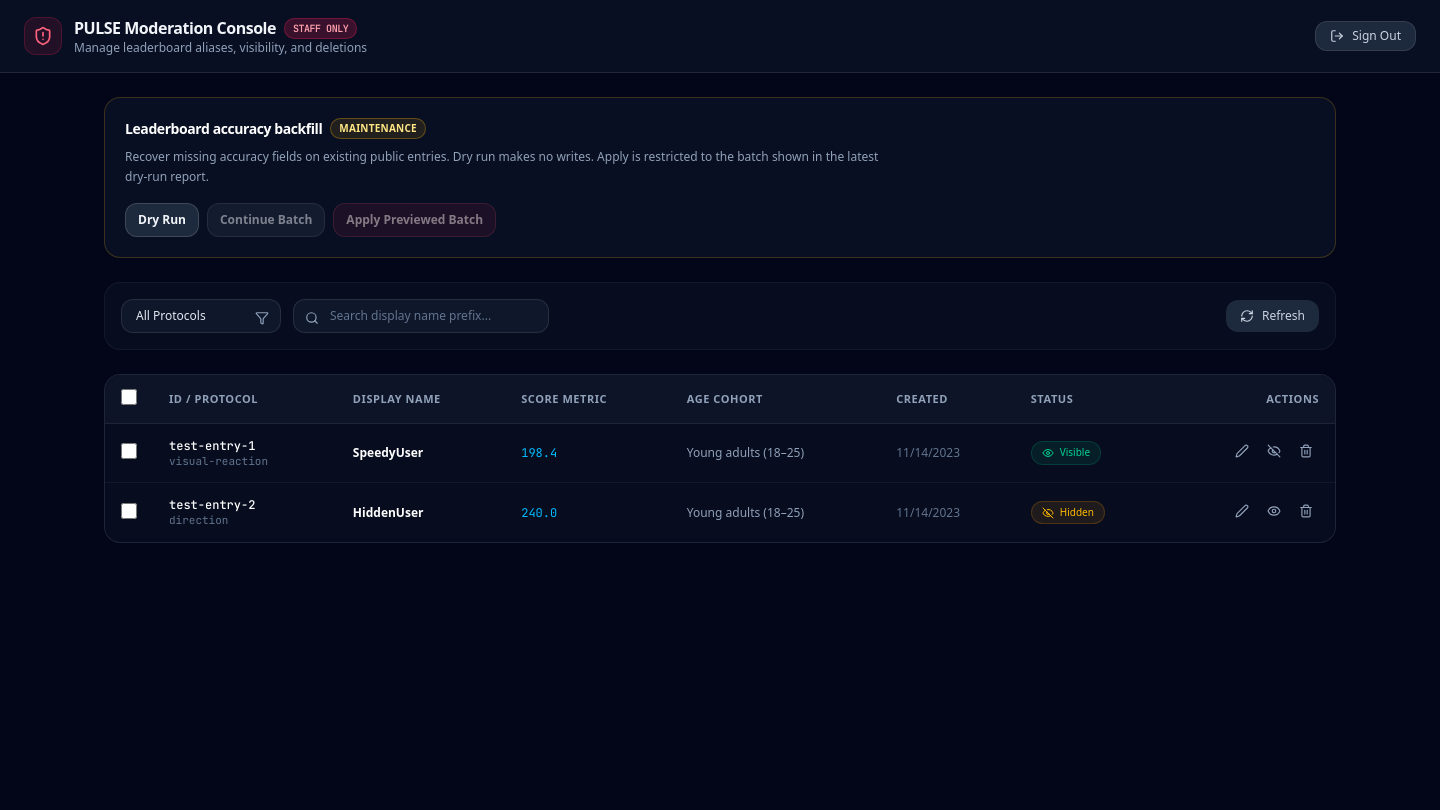
AdminPage Component Tests › opens confirmation modal and deletes row permanently
Expected: the text "SpeedyUser" is shown, [353,444,423,461]
Click the button titled "Delete Entry" in the row of "test-entry-1".
click(1306, 451)  # box [1293,438,1319,464]
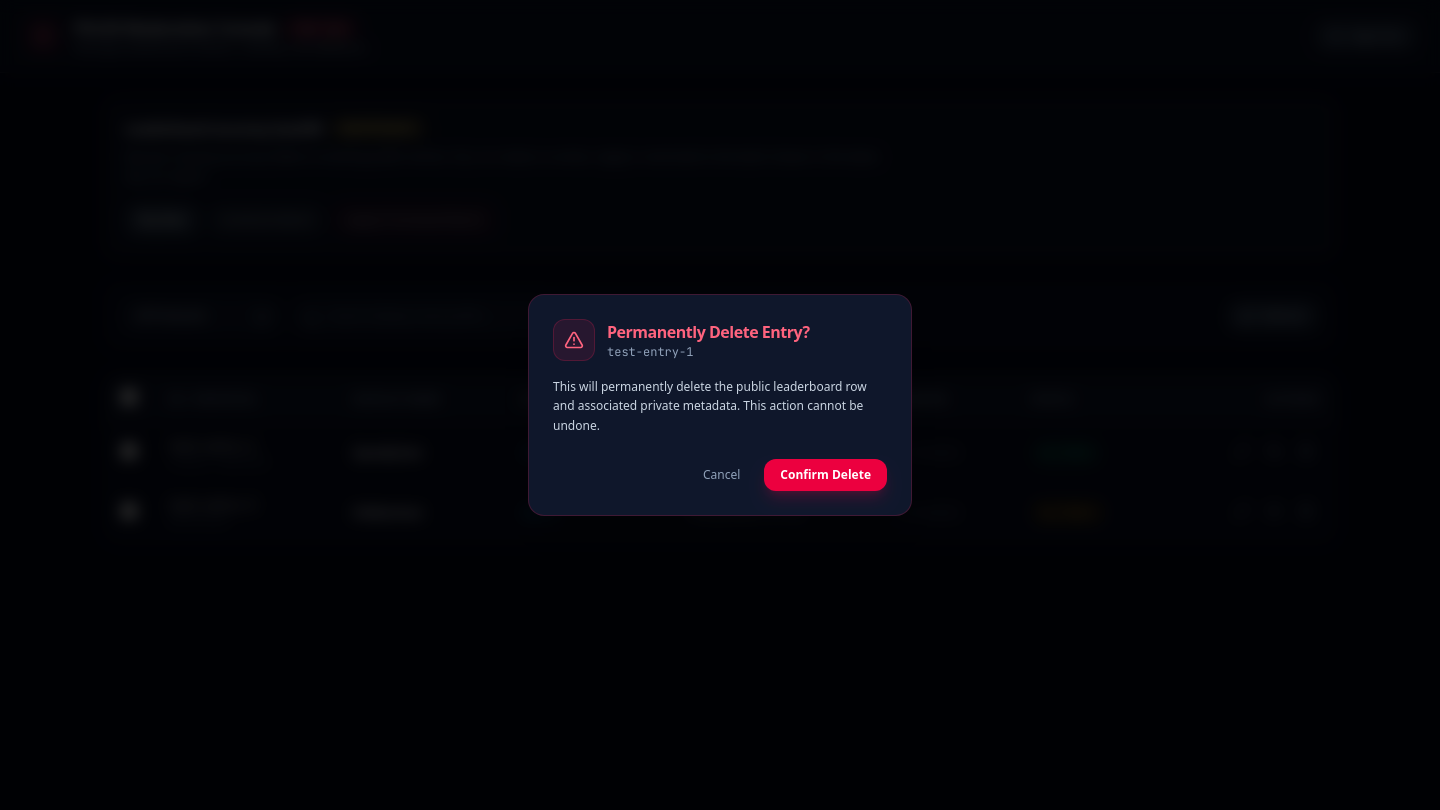
Now the heading "Permanently Delete Entry?" is shown, box [607,320,810,344]
Click the button "Confirm Delete".
click(826, 475)  # box [764,459,887,491]
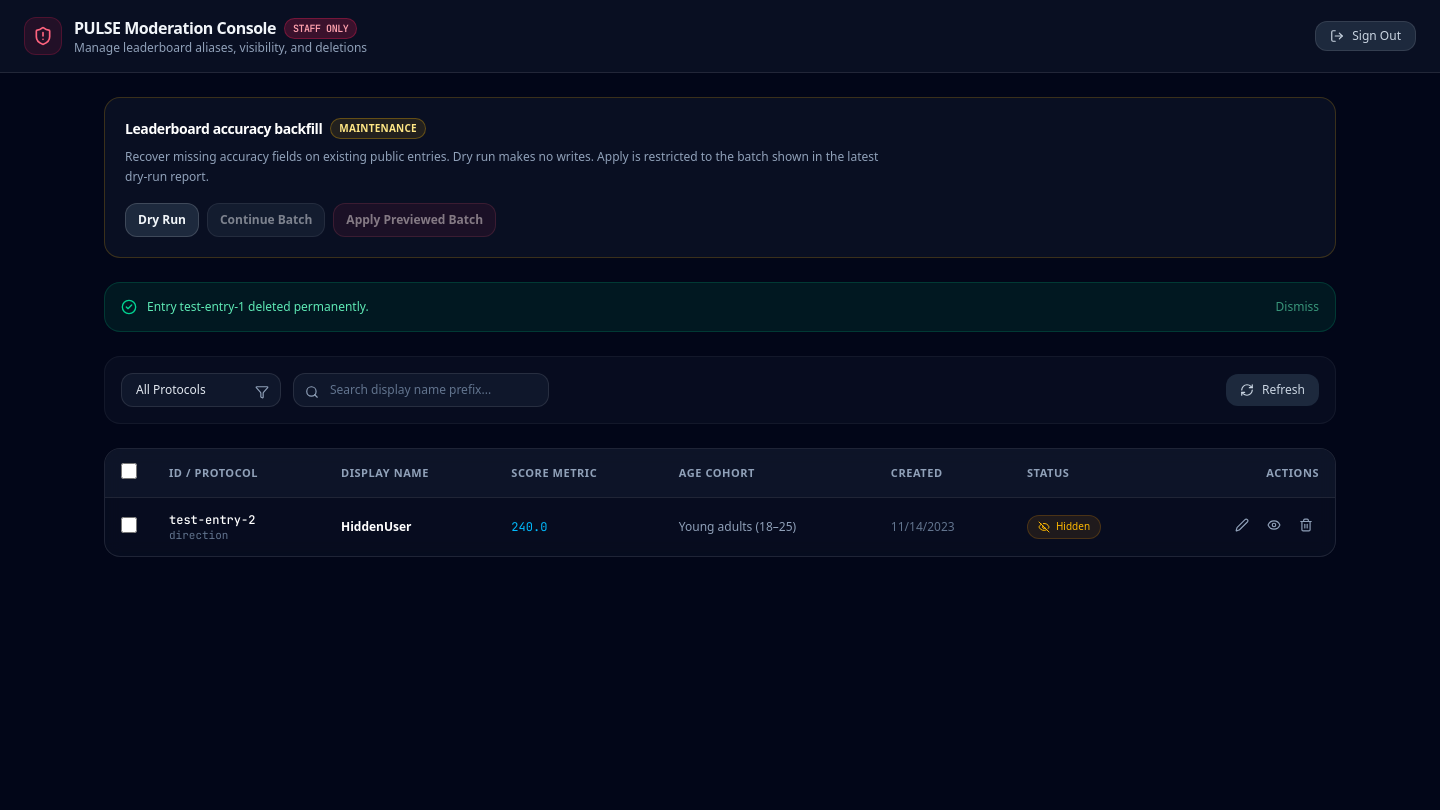
Now the text "SpeedyUser" is gone
